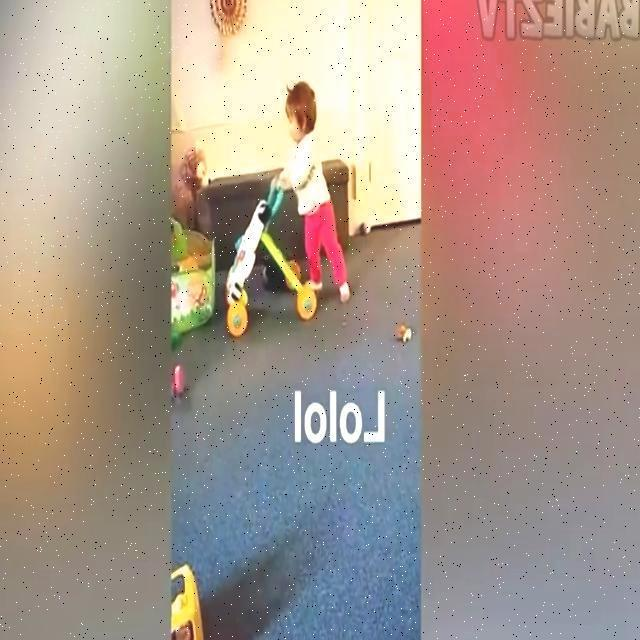child: (273, 79, 353, 315)
